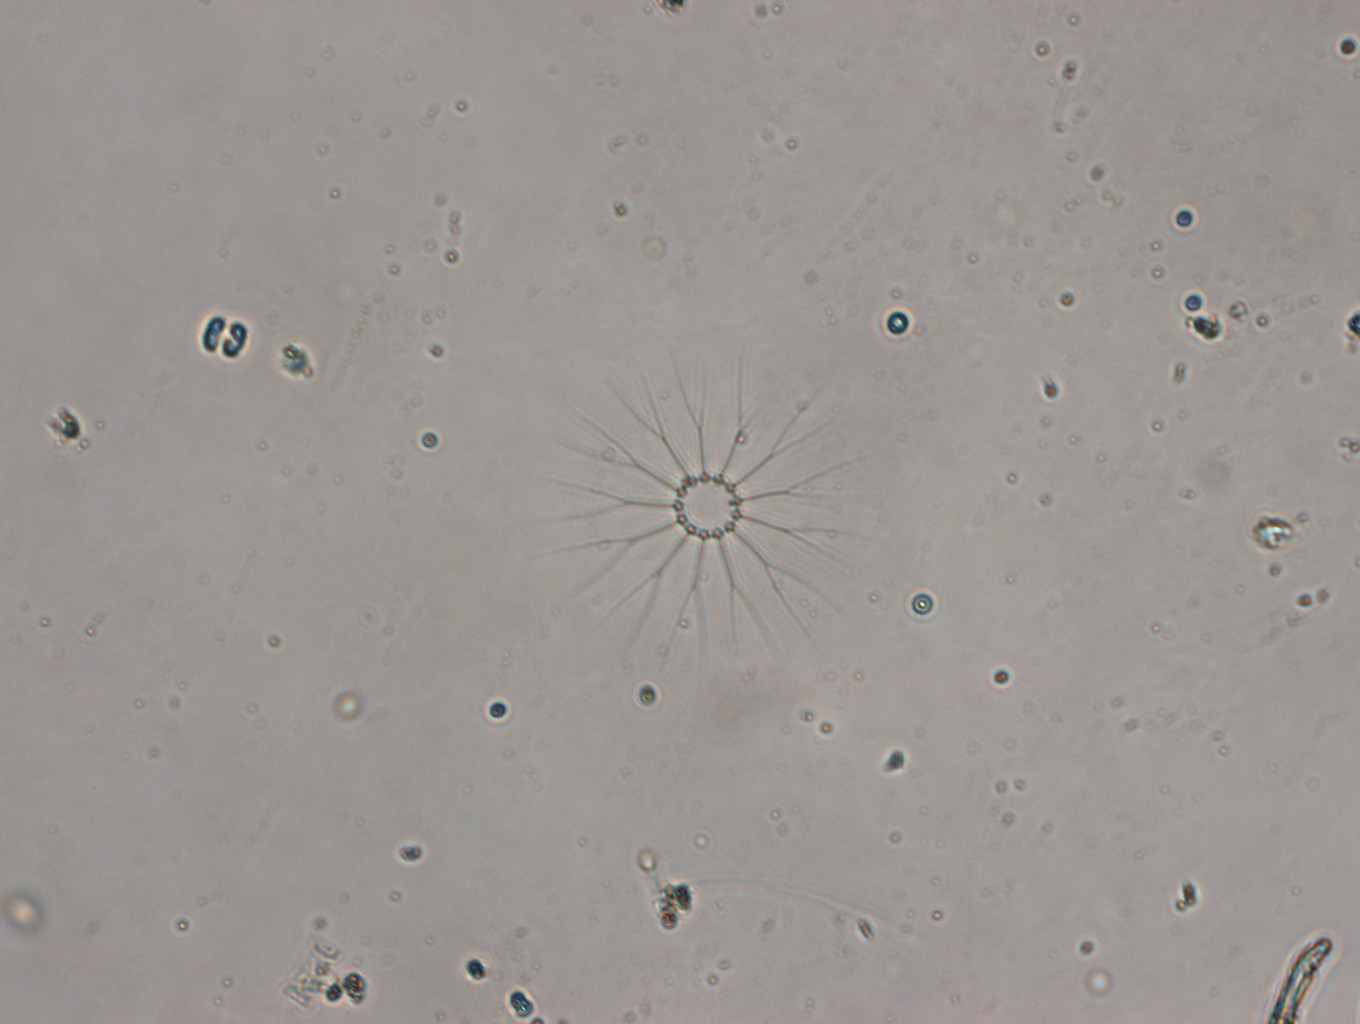bacteriastrum: (563, 347, 878, 677)
